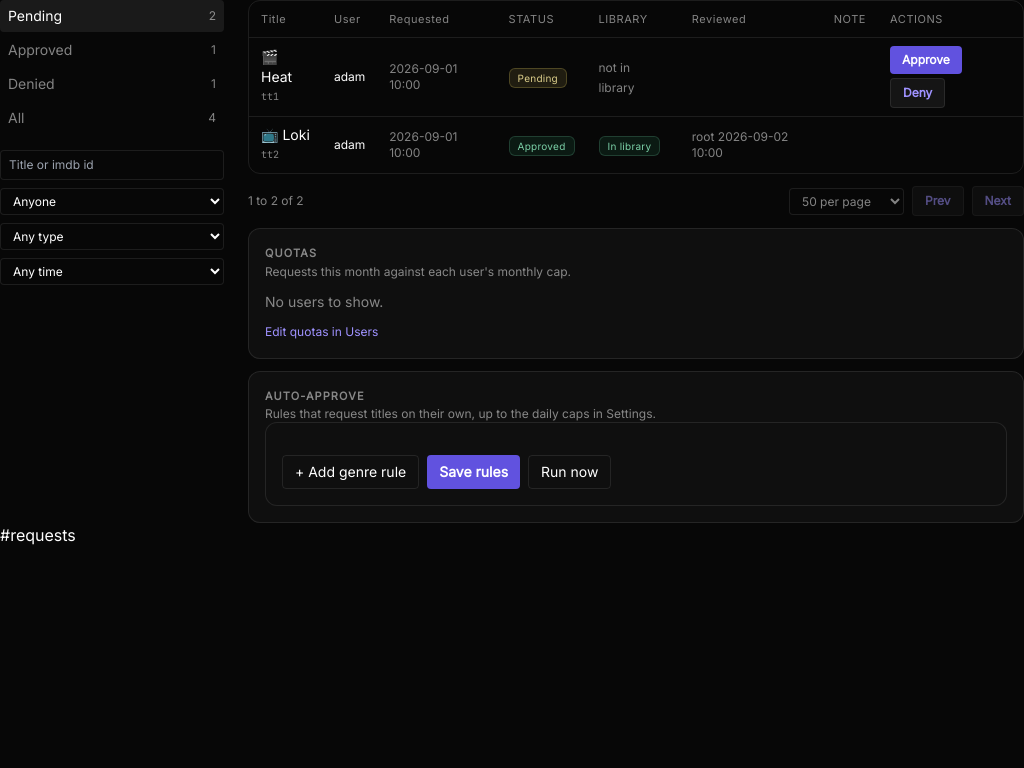
Requests tab › opening a pending row with no library row yet shows the friendly not-in-library message
Click the text "Heat": (277, 76) [261, 68, 292, 85]
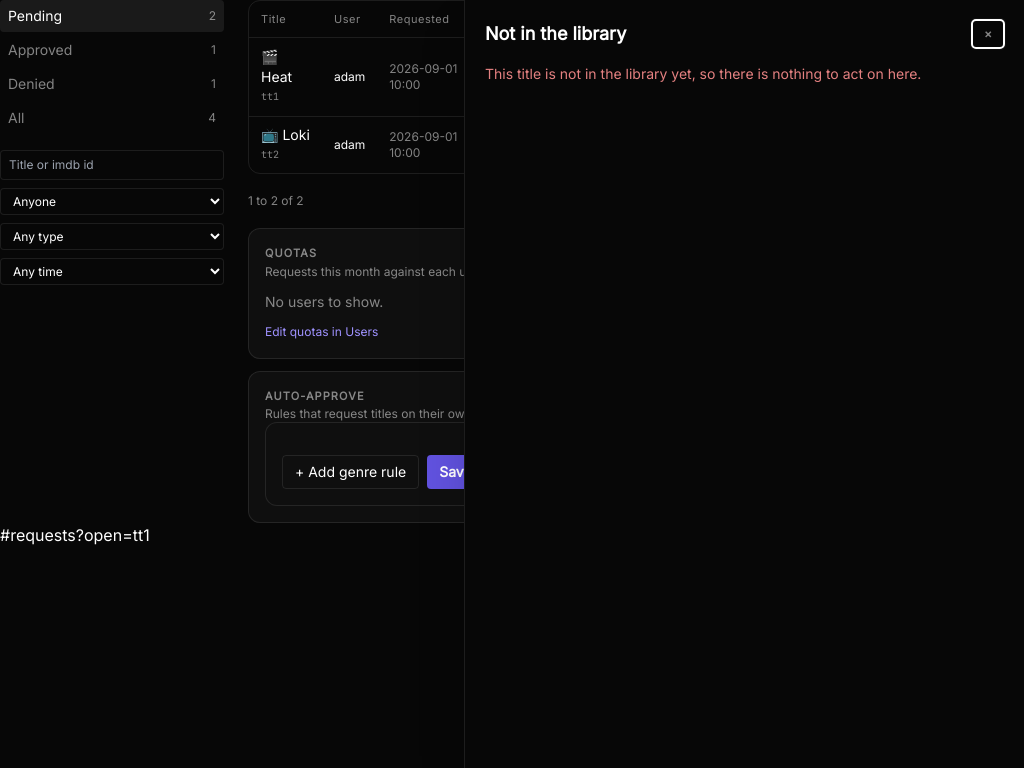
Check: the heading "Not in the library" is shown, box [485, 20, 626, 48]
Check: the text "This title is not in the library yet, so there is nothing to act on here." is shown, box [485, 65, 921, 82]
